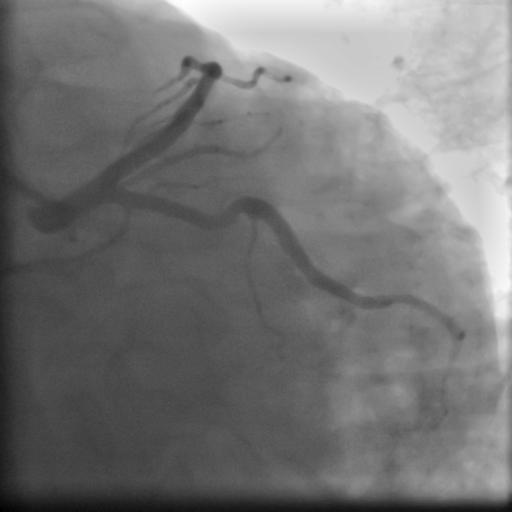Stenosis: (221, 197, 242, 221)
